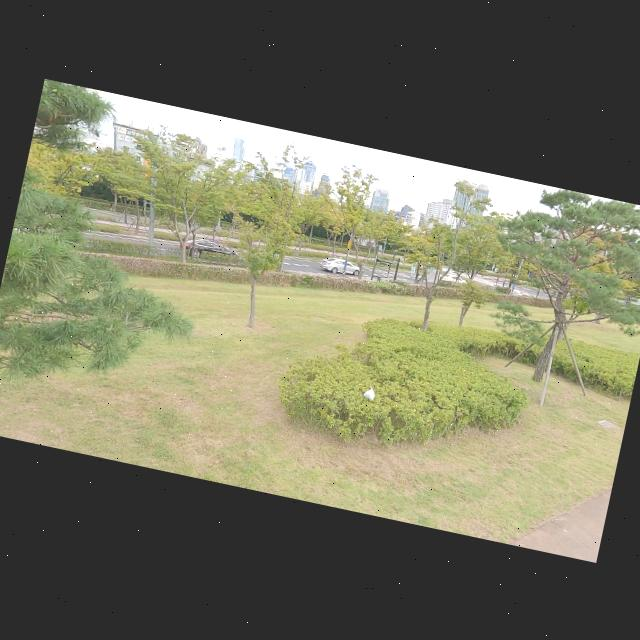trash: (362, 384, 376, 401)
